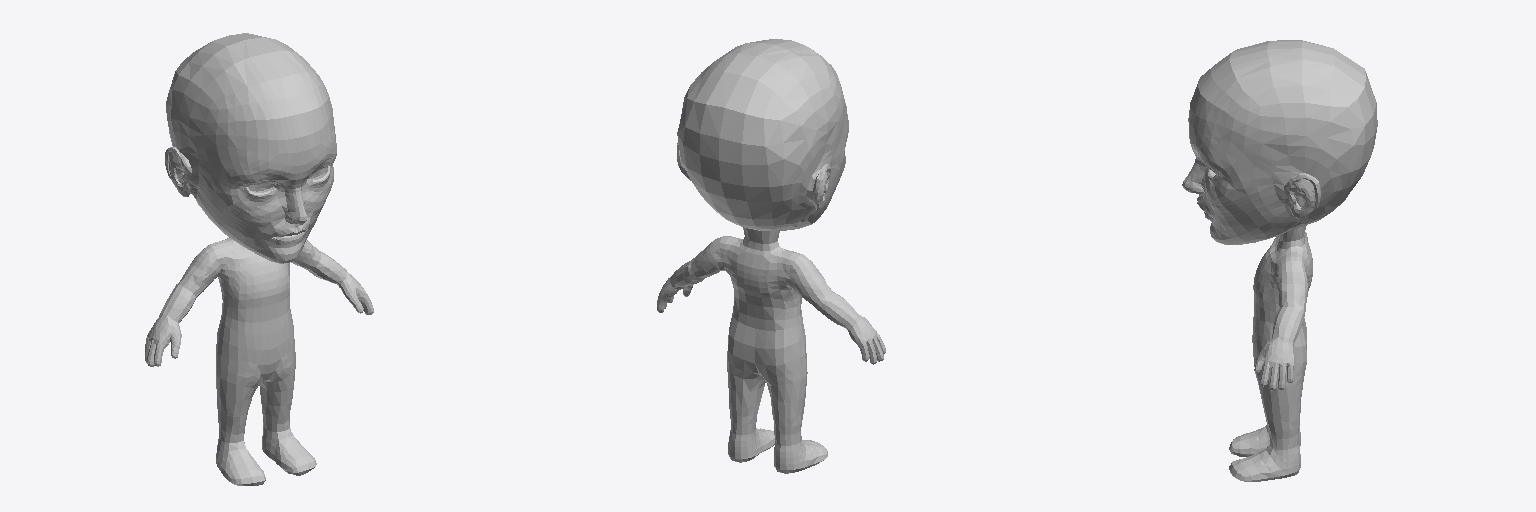
File: boy15.obj
3 views of the same model, side by side, from view 1: azimuth 30°, elevation 25°; view 2: azimuth 150°, elevation 25°; view 3: azimuth 270°, elevation 25° (orthographic).
Size of the model in its own units: 0.4289 by 0.7589 by 0.3233.